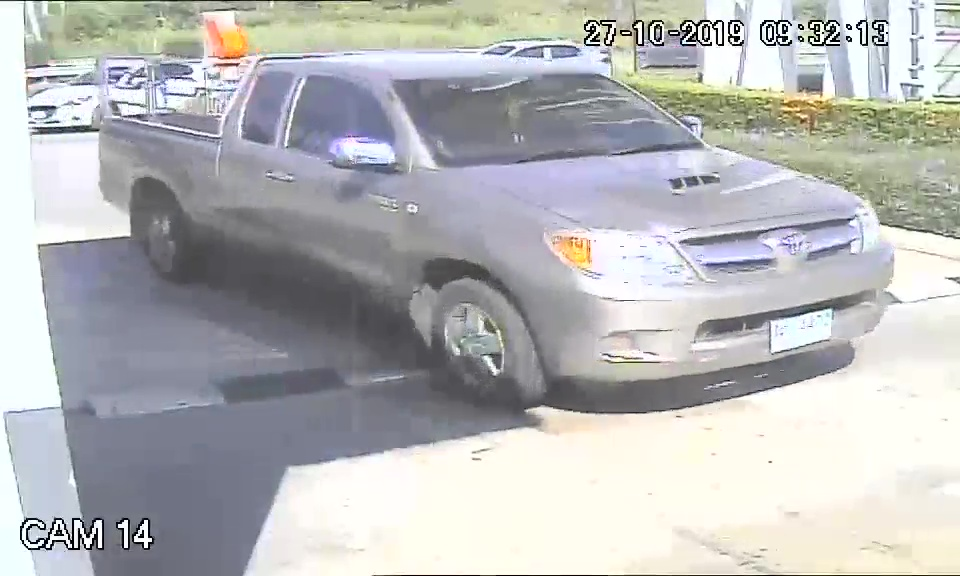pickup: (98, 47, 896, 417)
